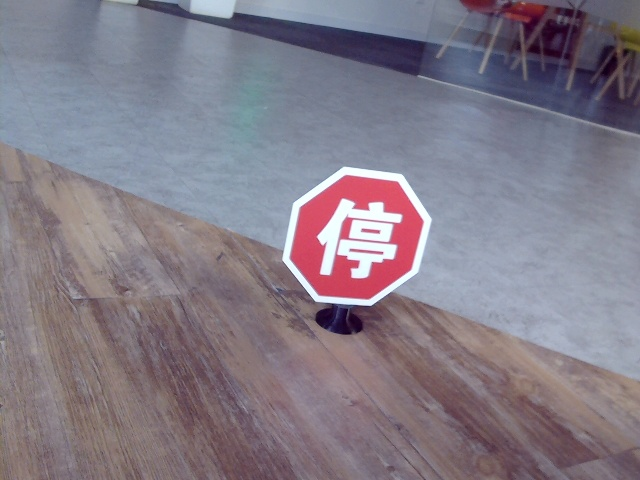stop: (317, 197, 402, 275)
